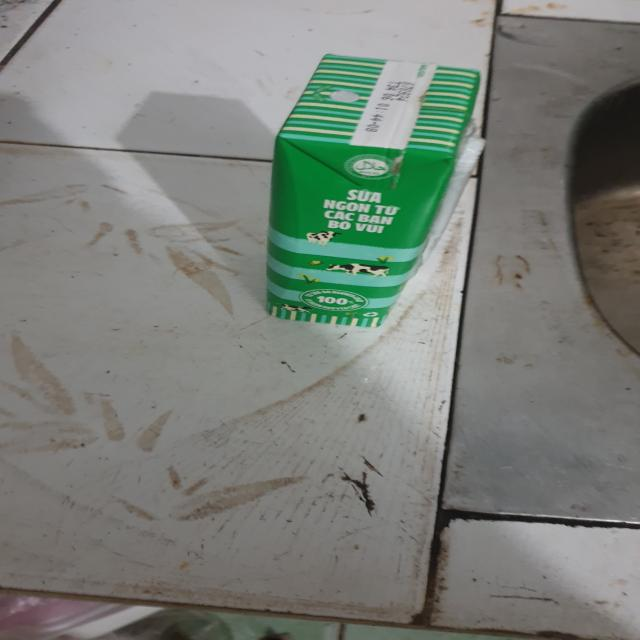Vina: (264, 52, 487, 331)
